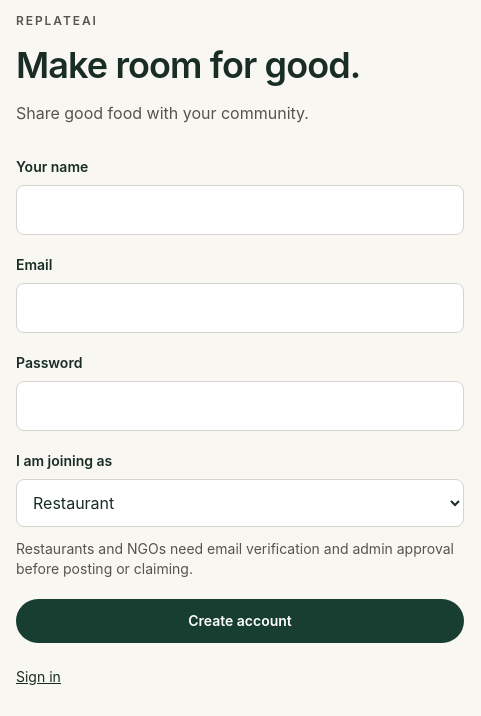
Test: submits the register form
Type "Demo User" into the field labelled "Your name".
click(240, 210); type("Demo User")  # box [16,185,464,235]
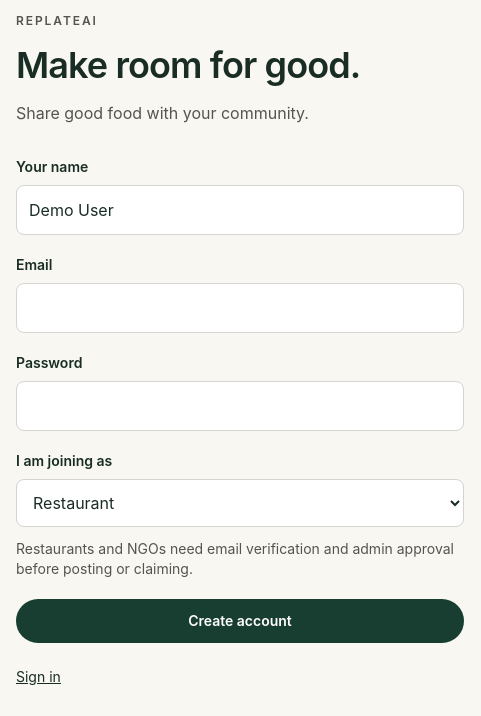
Type "demo@example.com" into the field labelled "Email".
click(240, 308); type("demo@example.com")  # box [16,283,464,333]
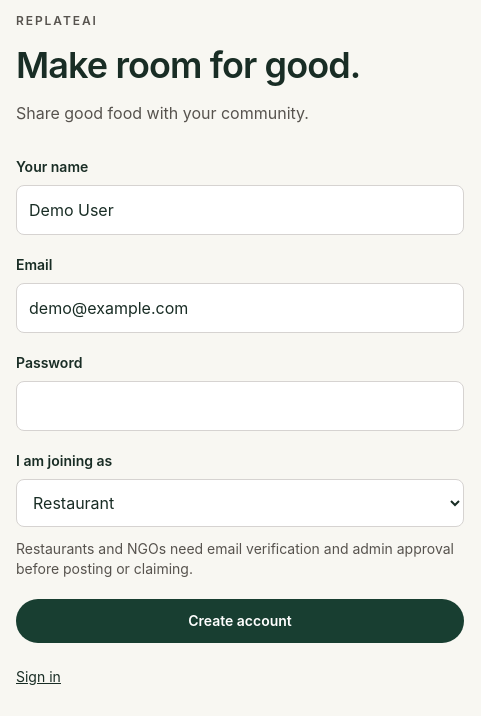
Type "StrongPass123!" into the password field labelled "Password".
click(240, 406); type("StrongPass123!")  # box [16,381,464,431]
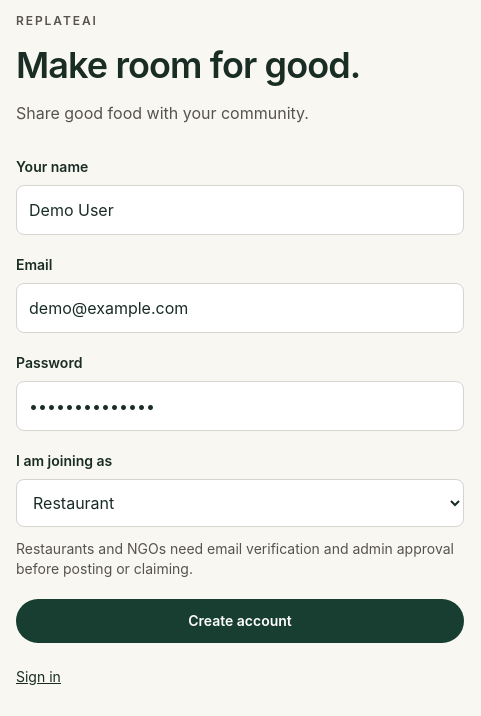
Click the button.
click(240, 621)  # box [16,599,464,643]
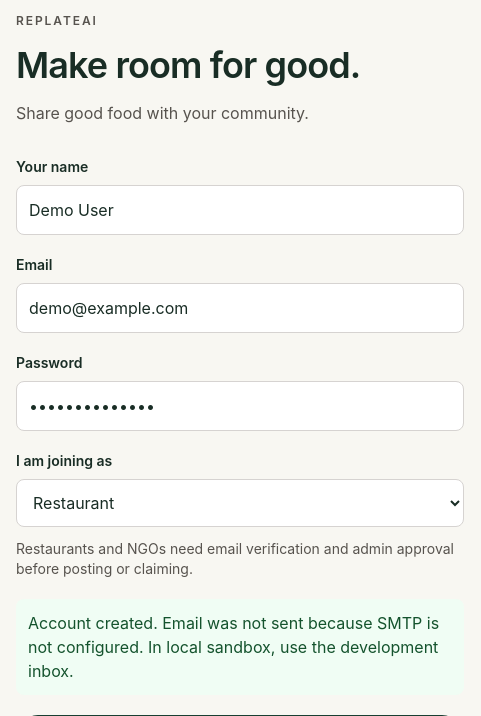
expect the message is shown: met, box [16,599,464,695]
